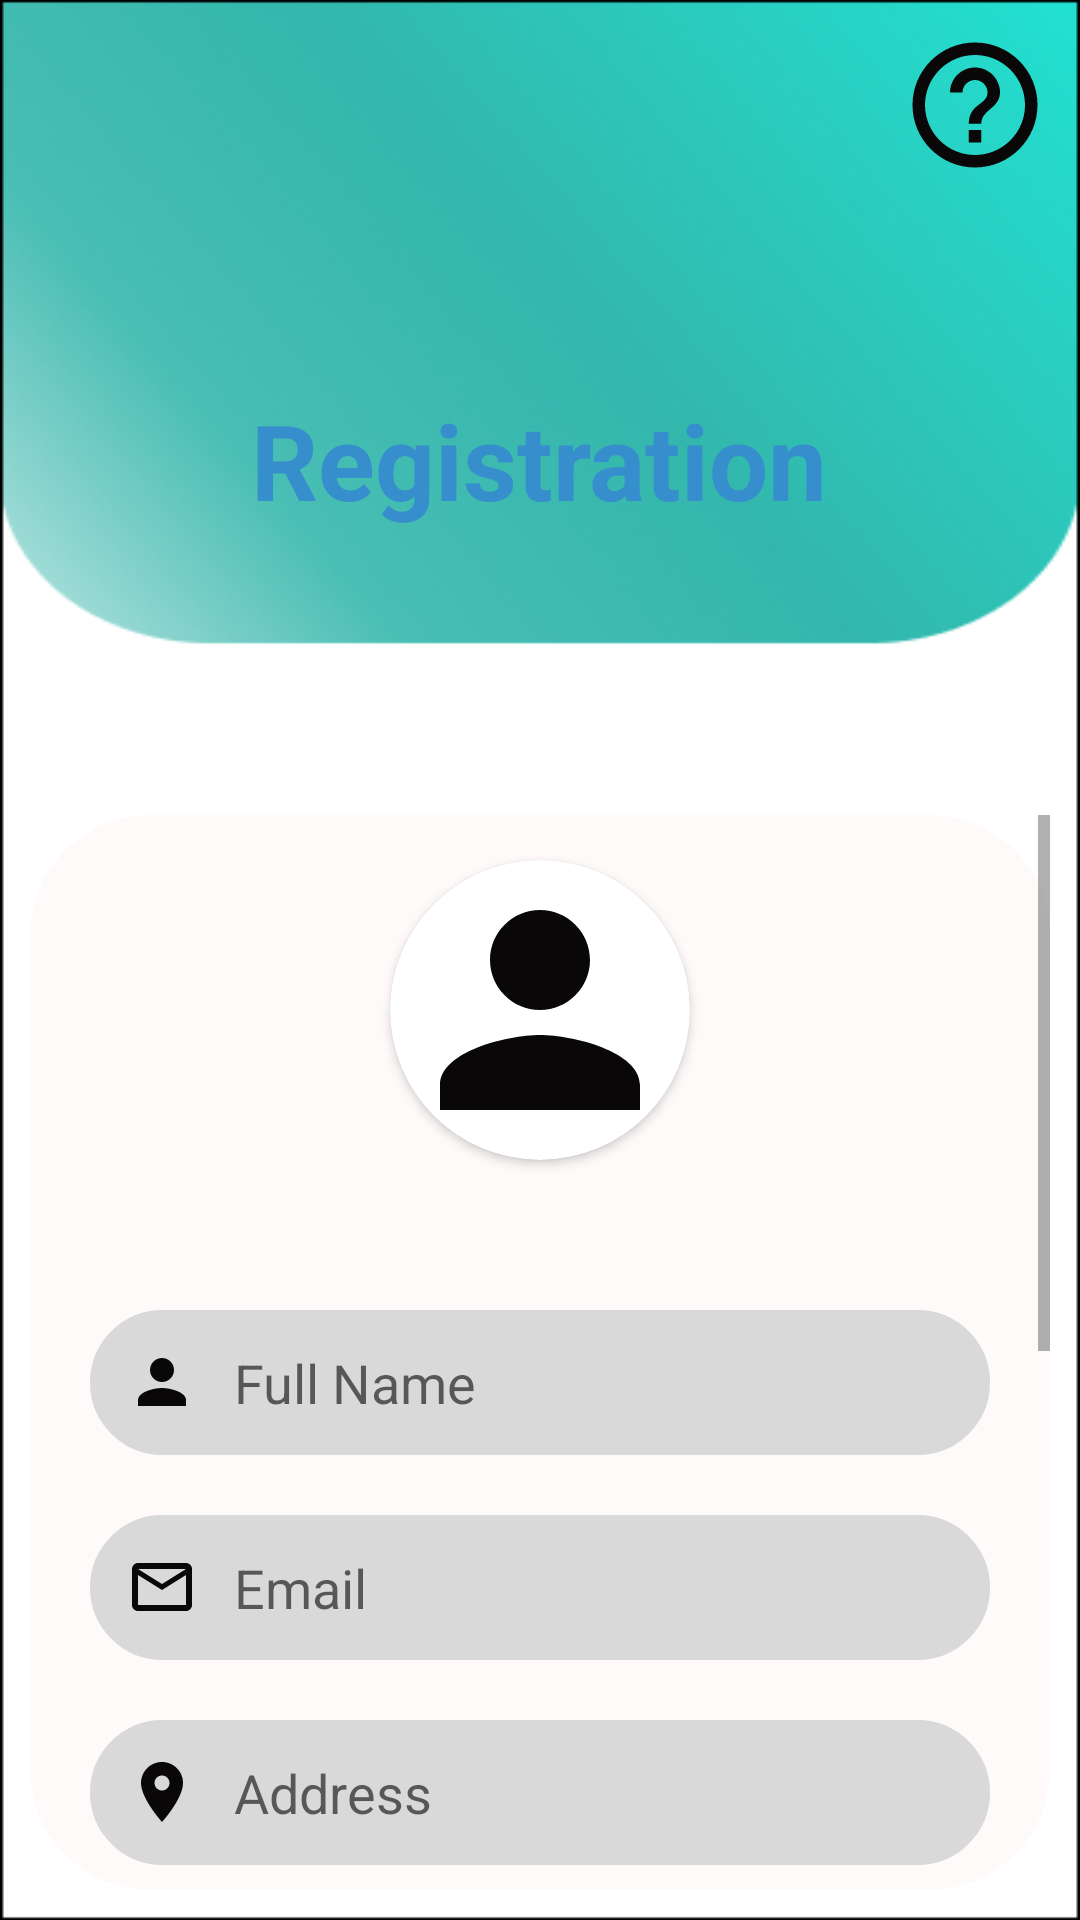

Screen size 1080 x 1920. Icon name, then its box in pixels as (x1, y1, x2, y2):
Help: (912, 42, 1038, 168)
Profilepic: (391, 910, 689, 1160)
